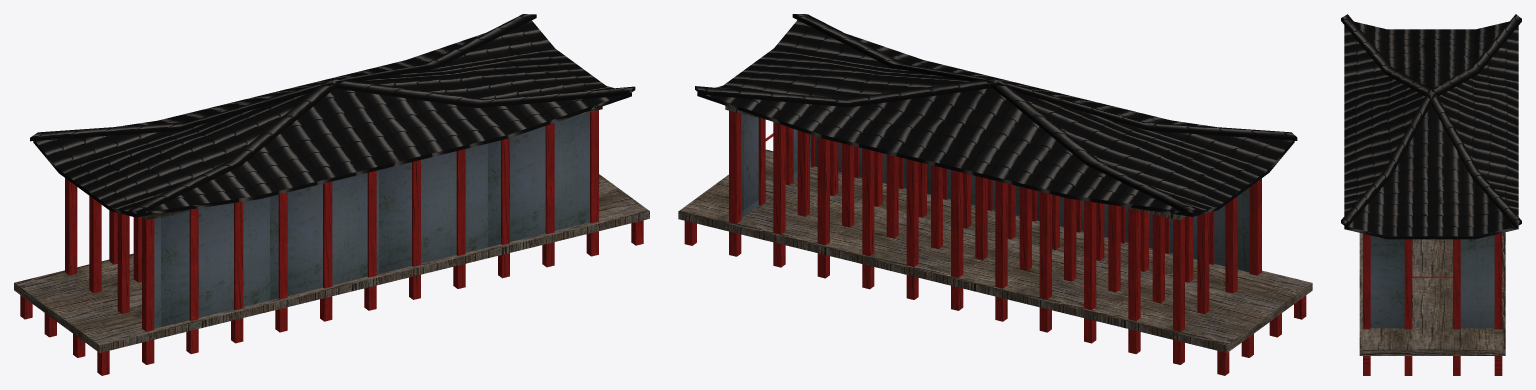
Rendered from Houses01OpenSlideJumpWindow.fbx.
The picture shows the model from 3 angles, left to right: view 1: azimuth 30°, elevation 25°; view 2: azimuth 150°, elevation 25°; view 3: azimuth 270°, elevation 25°; orthographic projection. The views are drawn at different scales.
Visible parts, largest first — view 1: Cube_019, Cube_000, Cube_035, Cube_006; view 2: Cube_019, Cube_035, Cube_006, Cube_000; view 3: Cube_019, Cube_006, Cube_000, Cube_035.
Part boxes in pixels (<box>): Cube_019: <box>30,14,635,217</box>; Cube_000: <box>154,112,589,328</box>; Cube_035: <box>20,110,643,375</box>; Cube_006: <box>14,106,649,352</box>; Cube_019: <box>695,14,1297,216</box>; Cube_035: <box>684,110,1306,375</box>; Cube_006: <box>678,105,1312,352</box>; Cube_000: <box>741,113,1249,272</box>; Cube_019: <box>1341,14,1521,239</box>; Cube_006: <box>1359,232,1505,355</box>; Cube_000: <box>1370,235,1494,328</box>; Cube_035: <box>1363,233,1502,375</box>.
Size of the model in its own units: 2474 by 857 by 824.
